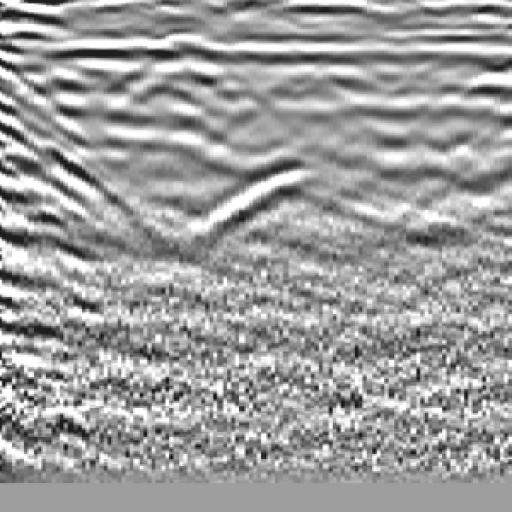metalic: (182, 41, 383, 278)
nonmetalic: (1, 48, 125, 271)
